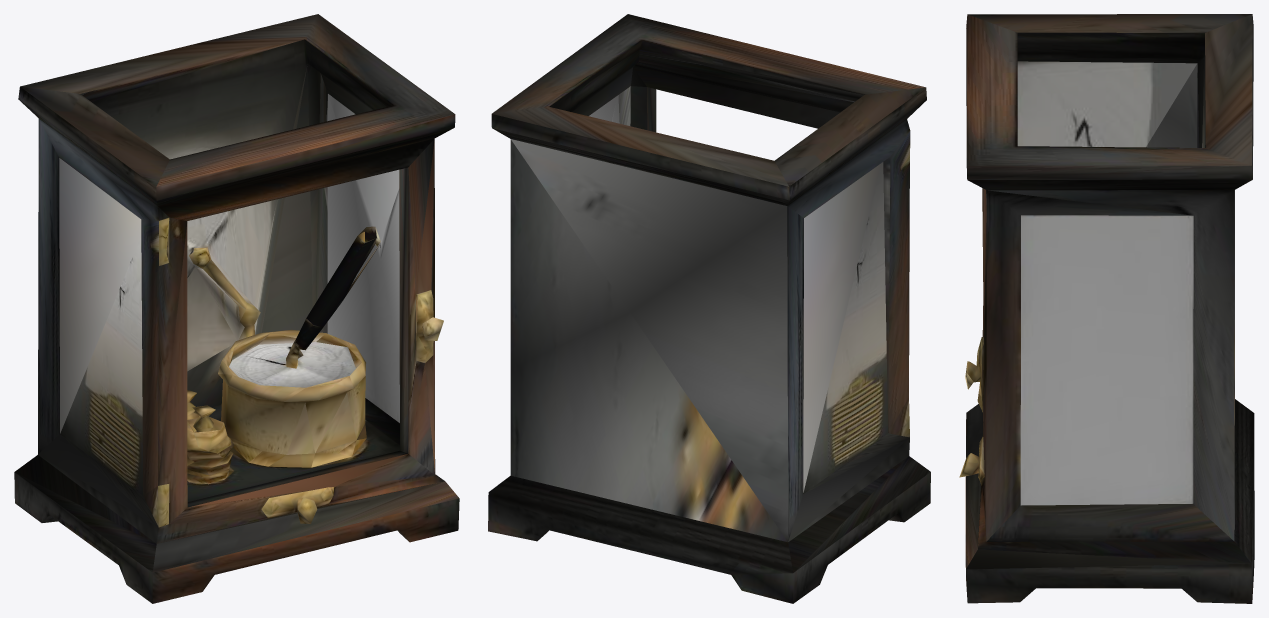
The model's file is lhi_barograph.glb.
The picture shows the model from 3 angles, left to right: view 1: azimuth 30°, elevation 25°; view 2: azimuth 150°, elevation 25°; view 3: azimuth 270°, elevation 25°; orthographic projection. The views are drawn at different scales.
Parts seen in each view (by area): view 1: material; view 2: material; view 3: material.
Boxes of the visible parts, bbox=[...] form: material: bbox=[14, 14, 459, 603]; material: bbox=[488, 14, 930, 603]; material: bbox=[959, 14, 1254, 603].
Bounding box in the file's own units: 0.6656 × 0.8674 × 0.5306.
1 material, 1 textured.
